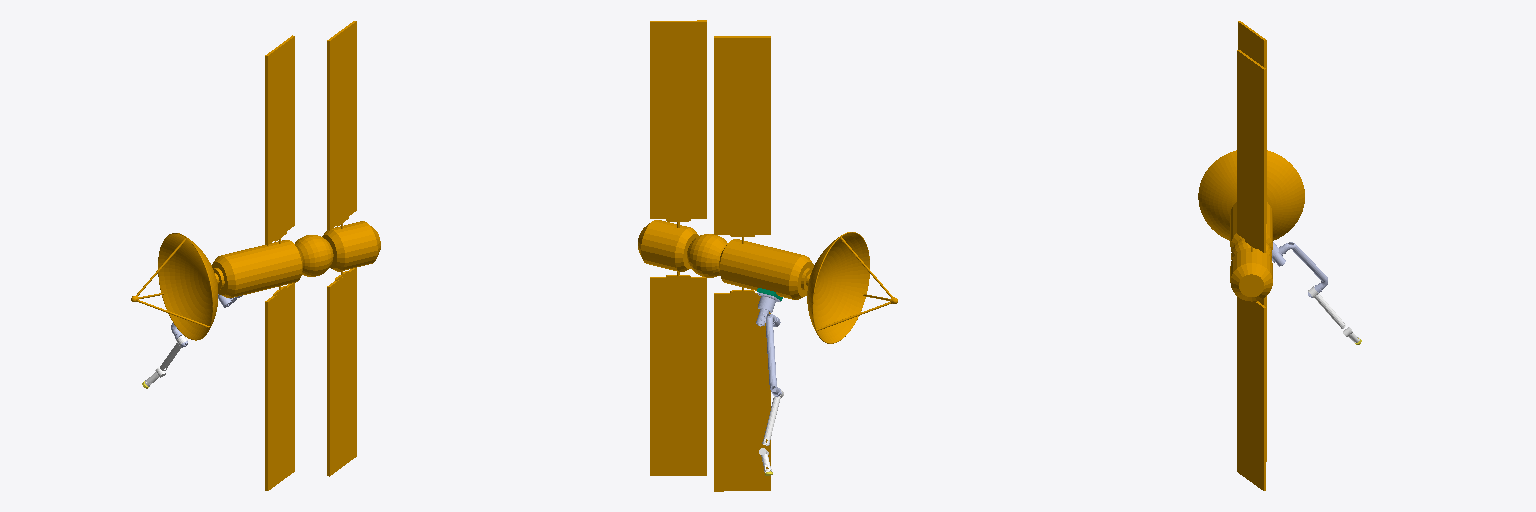
robot.urdf — solidworks_satellite__starlink_sldasm9:
<?xml version='1.0' encoding='utf-8'?>
<robot name="solidworks_satellite__starlink_sldasm9">
  <link name="base_link">
    <visual>
      <geometry>
        <mesh filename="../satellites/solidworks_satellite/satellite.stl" />
      </geometry>
    </visual>
    <collision>
      <geometry>
        <mesh filename="../satellites/solidworks_satellite/satellite.stl" />
      </geometry>
    </collision>
  </link>
  <link name="solidworks_satellite_mount" />
  <joint name="satellite_mount_fixed" type="fixed">
    <parent link="base_link" />
    <child link="solidworks_satellite_mount" />
    <origin xyz="-2.437326161586077 0.20975094889472667 -0.29954458009684976" rpy="3.141592653589793 -0.654498604372334 1.5707963267948966" />
  </joint>
  <link name="mount_support">
    <visual>
      <geometry>
        <mesh filename="../satellites/solidworks_satellite/mount_support.stl" />
      </geometry>
    </visual>
    <collision>
      <geometry>
        <mesh filename="../satellites/solidworks_satellite/mount_support.stl" />
      </geometry>
    </collision>
  </link>
  <joint name="support_fixed" type="fixed">
    <parent link="solidworks_satellite_mount" />
    <child link="mount_support" />
    <origin xyz="0 0 0" rpy="0 0 0" />
  </joint>
  <joint name="arm_adapter_fixed" type="fixed">
    <parent link="solidworks_satellite_mount" />
    <child link="starlink_space_manipulator_base_link" />
    <origin xyz="0.009087204933166504 0.008519247174263 0.16000000119209293" rpy="-1.5707963267948966 0 0.0" />
  </joint>
  <link name="starlink_space_manipulator_base_link">
    <inertial>
      <origin xyz="-0.00908719924946466 0.0225428225681148 -0.00851924929637313" rpy="0 0 0" />
      <mass value="8.66024015898073" />
      <inertia ixx="0.0960303512697639" ixy="1.65511904636803E-18" ixz="6.22039820639877E-19" iyy="0.103454922260914" iyz="-9.68471289978311E-19" izz="0.0960303512697639" />
    </inertial>
    <visual>
      <origin xyz="0 0 0" rpy="0 0 0" />
      <geometry>
        <mesh filename="../arms/starlink_sldasm9/meshes/starlink_space_manipulator_base_link.STL" />
      </geometry>
      <material name="">
        <color rgba="0.792156862745098 0.819607843137255 0.933333333333333 1" />
      </material>
    </visual>
    <collision>
      <origin xyz="0 0 0" rpy="0 0 0" />
      <geometry>
        <mesh filename="../arms/starlink_sldasm9/meshes/starlink_space_manipulator_base_link.STL" />
      </geometry>
    </collision>
  </link>
  <link name="starlink_space_manipulator_Shoulder_link_1">
    <inertial>
      <origin xyz="-0.000399471745595769 -0.100006574194712 -0.17423940484461" rpy="0 0 0" />
      <mass value="5.16309216784981" />
      <inertia ixx="0.0524543852135592" ixy="0.00348154867667969" ixz="6.96526910910627E-05" iyy="0.0306595326318824" iyz="-0.00056674368052247" izz="0.0439979075615329" />
    </inertial>
    <visual>
      <origin xyz="0 0 0" rpy="0 0 0" />
      <geometry>
        <mesh filename="../arms/starlink_sldasm9/meshes/starlink_space_manipulator_Shoulder_link_1.STL" />
      </geometry>
      <material name="">
        <color rgba="0.792156862745098 0.819607843137255 0.933333333333333 1" />
      </material>
    </visual>
    <collision>
      <origin xyz="0 0 0" rpy="0 0 0" />
      <geometry>
        <mesh filename="../arms/starlink_sldasm9/meshes/starlink_space_manipulator_Shoulder_link_1.STL" />
      </geometry>
    </collision>
  </link>
  <joint name="starlink_space_manipulator_Shoulder_link_1_yaw" type="revolute">
    <origin xyz="-0.0090872 -0.065 -0.0085192" rpy="1.5708 -0.15574 3.1416" />
    <parent link="starlink_space_manipulator_base_link" />
    <child link="starlink_space_manipulator_Shoulder_link_1" />
    <axis xyz="0 0 -1" />
    <limit lower="-3.14" upper="3.14" effort="0" velocity="0" />
  </joint>
  <link name="starlink_space_manipulator_Upper_arm_Link_1">
    <inertial>
      <origin xyz="0.402106341472203 -0.696465272634528 -0.170177523085579" rpy="0 0 0" />
      <mass value="5.05309869040685" />
      <inertia ixx="0.388719013133801" ixy="0.210155896498943" ixz="9.30829370680679E-08" iyy="0.146049057575642" iyz="1.71830458004218E-07" izz="0.500677708275447" />
    </inertial>
    <visual>
      <origin xyz="0 0 0" rpy="0 0 0" />
      <geometry>
        <mesh filename="../arms/starlink_sldasm9/meshes/starlink_space_manipulator_Upper_arm_Link_1.STL" />
      </geometry>
      <material name="">
        <color rgba="0.792156862745098 0.819607843137255 0.933333333333333 1" />
      </material>
    </visual>
    <collision>
      <origin xyz="0 0 0" rpy="0 0 0" />
      <geometry>
        <mesh filename="../arms/starlink_sldasm9/meshes/starlink_space_manipulator_Upper_arm_Link_1.STL" />
      </geometry>
    </collision>
  </link>
  <joint name="starlink_space_manipulator_Upper_arm_Link_1_roll" type="revolute">
    <origin xyz="0 -0.2 -0.18" rpy="1.5708 0.90646 1.5708" />
    <parent link="starlink_space_manipulator_Shoulder_link_1" />
    <child link="starlink_space_manipulator_Upper_arm_Link_1" />
    <axis xyz="0 0 -1" />
    <limit lower="-2" upper="1.5" effort="0" velocity="0" />
  </joint>
  <link name="starlink_space_manipulator_Mid_arm_Link_1">
    <inertial>
      <origin xyz="-0.000406052776441013 0.317722269561105 0.0155331755135703" rpy="0 0 0" />
      <mass value="1.57635531881168" />
      <inertia ixx="0.133610363618846" ixy="5.33750993405138E-05" ixz="-3.60473795202962E-09" iyy="0.00502119434334708" iyz="-2.514275749911E-05" izz="0.134586018527477" />
    </inertial>
    <visual>
      <origin xyz="0 0 0" rpy="0 0 0" />
      <geometry>
        <mesh filename="../arms/starlink_sldasm9/meshes/starlink_space_manipulator_Mid_arm_Link_1.STL" />
      </geometry>
      <material name="">
        <color rgba="1 1 1 1" />
      </material>
    </visual>
    <collision>
      <origin xyz="0 0 0" rpy="0 0 0" />
      <geometry>
        <mesh filename="../arms/starlink_sldasm9/meshes/starlink_space_manipulator_Mid_arm_Link_1.STL" />
      </geometry>
    </collision>
  </link>
  <joint name="starlink_space_manipulator_Mid_arm_Link_1_roll" type="revolute">
    <origin xyz="0.599999999999673 -1.03923048454122 0" rpy="-3.14159265358979 0 0.828250280535091" />
    <parent link="starlink_space_manipulator_Upper_arm_Link_1" />
    <child link="starlink_space_manipulator_Mid_arm_Link_1" />
    <axis xyz="0 0 -1" />
    <limit lower="-3.14" upper="3.14" effort="0" velocity="0" />
  </joint>
  <link name="starlink_space_manipulator_Upper_wrist_Link_1">
    <inertial>
      <origin xyz="-0.000400003664721815 -0.201565878030355 -0.00216705855311664" rpy="0 0 0" />
      <mass value="0.994770641034713" />
      <inertia ixx="0.00165409639029414" ixy="-7.59103925411082E-06" ixz="-3.17403155320863E-06" iyy="0.00201437937768072" iyz="2.63246464091218E-06" izz="0.00159638838344539" />
    </inertial>
    <visual>
      <origin xyz="0 0 0" rpy="0 0 0" />
      <geometry>
        <mesh filename="../arms/starlink_sldasm9/meshes/starlink_space_manipulator_Upper_wrist_Link_1.STL" />
      </geometry>
      <material name="">
        <color rgba="0.792156862745098 0.819607843137255 0.933333333333333 1" />
      </material>
    </visual>
    <collision>
      <origin xyz="0 0 0" rpy="0 0 0" />
      <geometry>
        <mesh filename="../arms/starlink_sldasm9/meshes/starlink_space_manipulator_Upper_wrist_Link_1.STL" />
      </geometry>
    </collision>
  </link>
  <joint name="starlink_space_manipulator_Upper_wrist_Link_1_yaw" type="revolute">
    <origin xyz="-0.00050155183276912 0.686793643713439 0.0155010481432086" rpy="0 -0.0763876794035917 3.14159265358979" />
    <parent link="starlink_space_manipulator_Mid_arm_Link_1" />
    <child link="starlink_space_manipulator_Upper_wrist_Link_1" />
    <axis xyz="0 -1 0" />
    <limit lower="-3.14" upper="3.14" effort="0" velocity="0" />
  </joint>
  <link name="starlink_space_manipulator_Upper_wrist_Link_2">
    <inertial>
      <origin xyz="8.45304168883843E-08 0.0848318719623631 -0.00515657391755576" rpy="0 0 0" />
      <mass value="1.03716823037577" />
      <inertia ixx="0.0100970561498589" ixy="1.32295633551837E-09" ixz="-9.43675929999229E-09" iyy="0.00222325407426665" iyz="-2.08772874866187E-06" izz="0.0105840577017538" />
    </inertial>
    <visual>
      <origin xyz="0 0 0" rpy="0 0 0" />
      <geometry>
        <mesh filename="../arms/starlink_sldasm9/meshes/starlink_space_manipulator_Upper_wrist_Link_2.STL" />
      </geometry>
      <material name="">
        <color rgba="1 1 1 1" />
      </material>
    </visual>
    <collision>
      <origin xyz="0 0 0" rpy="0 0 0" />
      <geometry>
        <mesh filename="../arms/starlink_sldasm9/meshes/starlink_space_manipulator_Upper_wrist_Link_2.STL" />
      </geometry>
    </collision>
  </link>
  <joint name="starlink_space_manipulator_Upper_wrist_Link_2_roll" type="revolute">
    <origin xyz="0 -0.30020635628656 0" rpy="-0.0158640776811277 -0.0317448426184613 -2.67805461574742" />
    <parent link="starlink_space_manipulator_Upper_wrist_Link_1" />
    <child link="starlink_space_manipulator_Upper_wrist_Link_2" />
    <axis xyz="0 0 1" />
    <limit lower="-2.5" upper="1.8" effort="0" velocity="0" />
  </joint>
  <link name="starlink__space_manipulator_2F-Body_Link">
    </link>
  <joint name="starlink__space_manipulator_2F-Body_Link_yaw" type="revolute">
    <origin xyz="0 0.34845 -0.0053813" rpy="-3.1416 0.93592 0" />
    <parent link="starlink_space_manipulator_Upper_wrist_Link_2" />
    <child link="starlink__space_manipulator_2F-Body_Link" />
    <axis xyz="0 -1 0" />
    <limit lower="-3.14" upper="3.14" effort="0" velocity="0" />
  </joint>
  <link name="angular_hand">
    <visual>
      <geometry>
        <mesh filename="../arms/starlink_sldasm9/meshes/hand_2finger.STL" scale="2 2 2" />
      </geometry>
    </visual>
    <collision>
      <geometry>
        <mesh filename="../arms/starlink_sldasm9/meshes/hand_2finger.STL" scale="2 2 2" />
      </geometry>
    </collision>
  </link>
  <joint name="angular_hand_fixed" type="fixed">
    <parent link="starlink__space_manipulator_2F-Body_Link" />
    <child link="angular_hand" />
    <origin xyz="0 -0.036 0" rpy="-1.5707963267948966 0 0" />
  </joint>
  <link name="angular_adapter">
    <visual>
      <geometry>
        <mesh filename="../arms/starlink_sldasm9/meshes/angular_adapter.stl" />
      </geometry>
    </visual>
    <collision>
      <geometry>
        <mesh filename="../arms/starlink_sldasm9/meshes/angular_adapter.stl" />
      </geometry>
    </collision>
  </link>
  <joint name="angular_adapter_fixed" type="fixed">
    <parent link="starlink__space_manipulator_2F-Body_Link" />
    <child link="angular_adapter" />
    <origin xyz="0 -0.0005 0" rpy="1.5707963267948966 0 0" />
  </joint>
  <link name="angular_finger_1">
    <visual>
      <geometry>
        <mesh filename="../arms/starlink_sldasm9/meshes/finger_proximal.STL" scale="2 2 2" />
      </geometry>
    </visual>
    <collision>
      <geometry>
        <mesh filename="../arms/starlink_sldasm9/meshes/finger_proximal.STL" scale="2 2 2" />
      </geometry>
    </collision>
  </link>
  <link name="angular_tip_1">
    <visual>
      <geometry>
        <mesh filename="../arms/starlink_sldasm9/meshes/finger_distal.STL" scale="2 2 2" />
      </geometry>
    </visual>
    <collision>
      <geometry>
        <mesh filename="../arms/starlink_sldasm9/meshes/finger_distal.STL" scale="2 2 2" />
      </geometry>
    </collision>
  </link>
  <joint name="angular_joint_1" type="revolute">
    <parent link="angular_hand" />
    <child link="angular_finger_1" />
    <axis xyz="0 0 1" />
    <origin xyz="-0.005 0.0619 -0.22964" rpy="-1.570796327 .649262481663582 1.5707963267948966" />
    <limit lower="0" upper="1.51" effort="2" velocity="1" />
  </joint>
  <joint name="angular_joint_tip_1" type="revolute">
    <parent link="angular_finger_1" />
    <child link="angular_tip_1" />
    <axis xyz="0 0 1" />
    <origin xyz="0.088 -0.006 0.0" rpy="0 0 0" />
    <limit lower="0" upper="2" effort="2" velocity="1" />
  </joint>
  <link name="angular_finger_2">
    <visual>
      <geometry>
        <mesh filename="../arms/starlink_sldasm9/meshes/finger_proximal.STL" scale="2 2 2" />
      </geometry>
    </visual>
    <collision>
      <geometry>
        <mesh filename="../arms/starlink_sldasm9/meshes/finger_proximal.STL" scale="2 2 2" />
      </geometry>
    </collision>
  </link>
  <link name="angular_tip_2">
    <visual>
      <geometry>
        <mesh filename="../arms/starlink_sldasm9/meshes/finger_distal.STL" scale="2 2 2" />
      </geometry>
    </visual>
    <collision>
      <geometry>
        <mesh filename="../arms/starlink_sldasm9/meshes/finger_distal.STL" scale="2 2 2" />
      </geometry>
    </collision>
  </link>
  <joint name="angular_joint_2" type="revolute">
    <parent link="angular_hand" />
    <child link="angular_finger_2" />
    <axis xyz="0 0 1" />
    <origin xyz="-0.005 -0.0619 -0.22964" rpy="-1.570796327 .649262481663582 -1.5707963267948966" />
    <limit lower="0" upper="1.51" effort="2" velocity="1" />
  </joint>
  <joint name="angular_joint_tip_2" type="revolute">
    <parent link="angular_finger_2" />
    <child link="angular_tip_2" />
    <axis xyz="0 0 1" />
    <origin xyz="0.088 -0.006 0.0" rpy="0 0 0" />
    <limit lower="0" upper="2" effort="2" velocity="1" />
  </joint>
  <link name="angular_tcp" />
  <joint name="angular_tcp_fixed" type="fixed">
    <parent link="angular_hand" />
    <child link="angular_tcp" />
    <origin xyz="-0.005 0 -0.34" rpy="3.141592653589793 0 0" />
  </joint>
</robot>

--- Facts derived from the render (not from the file) ---
The picture shows the robot from 3 angles, left to right: view 1: azimuth 30°, elevation 25°; view 2: azimuth 150°, elevation 25°; view 3: azimuth 270°, elevation 25°; orthographic projection.
Model solidworks_satellite__starlink_sldasm9 with 17 links and 16 joints (10 revolute, 6 fixed), rooted at base_link, posed every joint at zero.
Visible links, largest first — view 1: base_link; view 2: base_link, starlink_space_manipulator_Upper_arm_Link_1; view 3: base_link.
Link boxes in pixels (bbox=[...]): base_link: bbox=[131, 21, 380, 490]; base_link: bbox=[638, 20, 897, 491]; starlink_space_manipulator_Upper_arm_Link_1: bbox=[766, 314, 781, 396]; base_link: bbox=[1198, 21, 1304, 490].
Size in the robot's own frame: 4.67 by 2.81 by 8 metres.
Meshes: 12 distinct files referenced, 8 mesh visuals loaded (8 binary STL); not drawn: 6 (reference not matched to a file when rendering).
